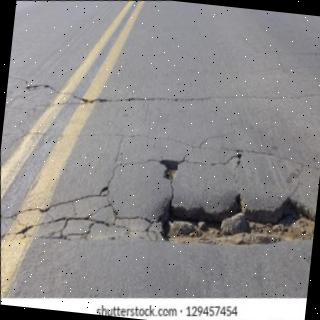pothole: (162, 194, 315, 245)
